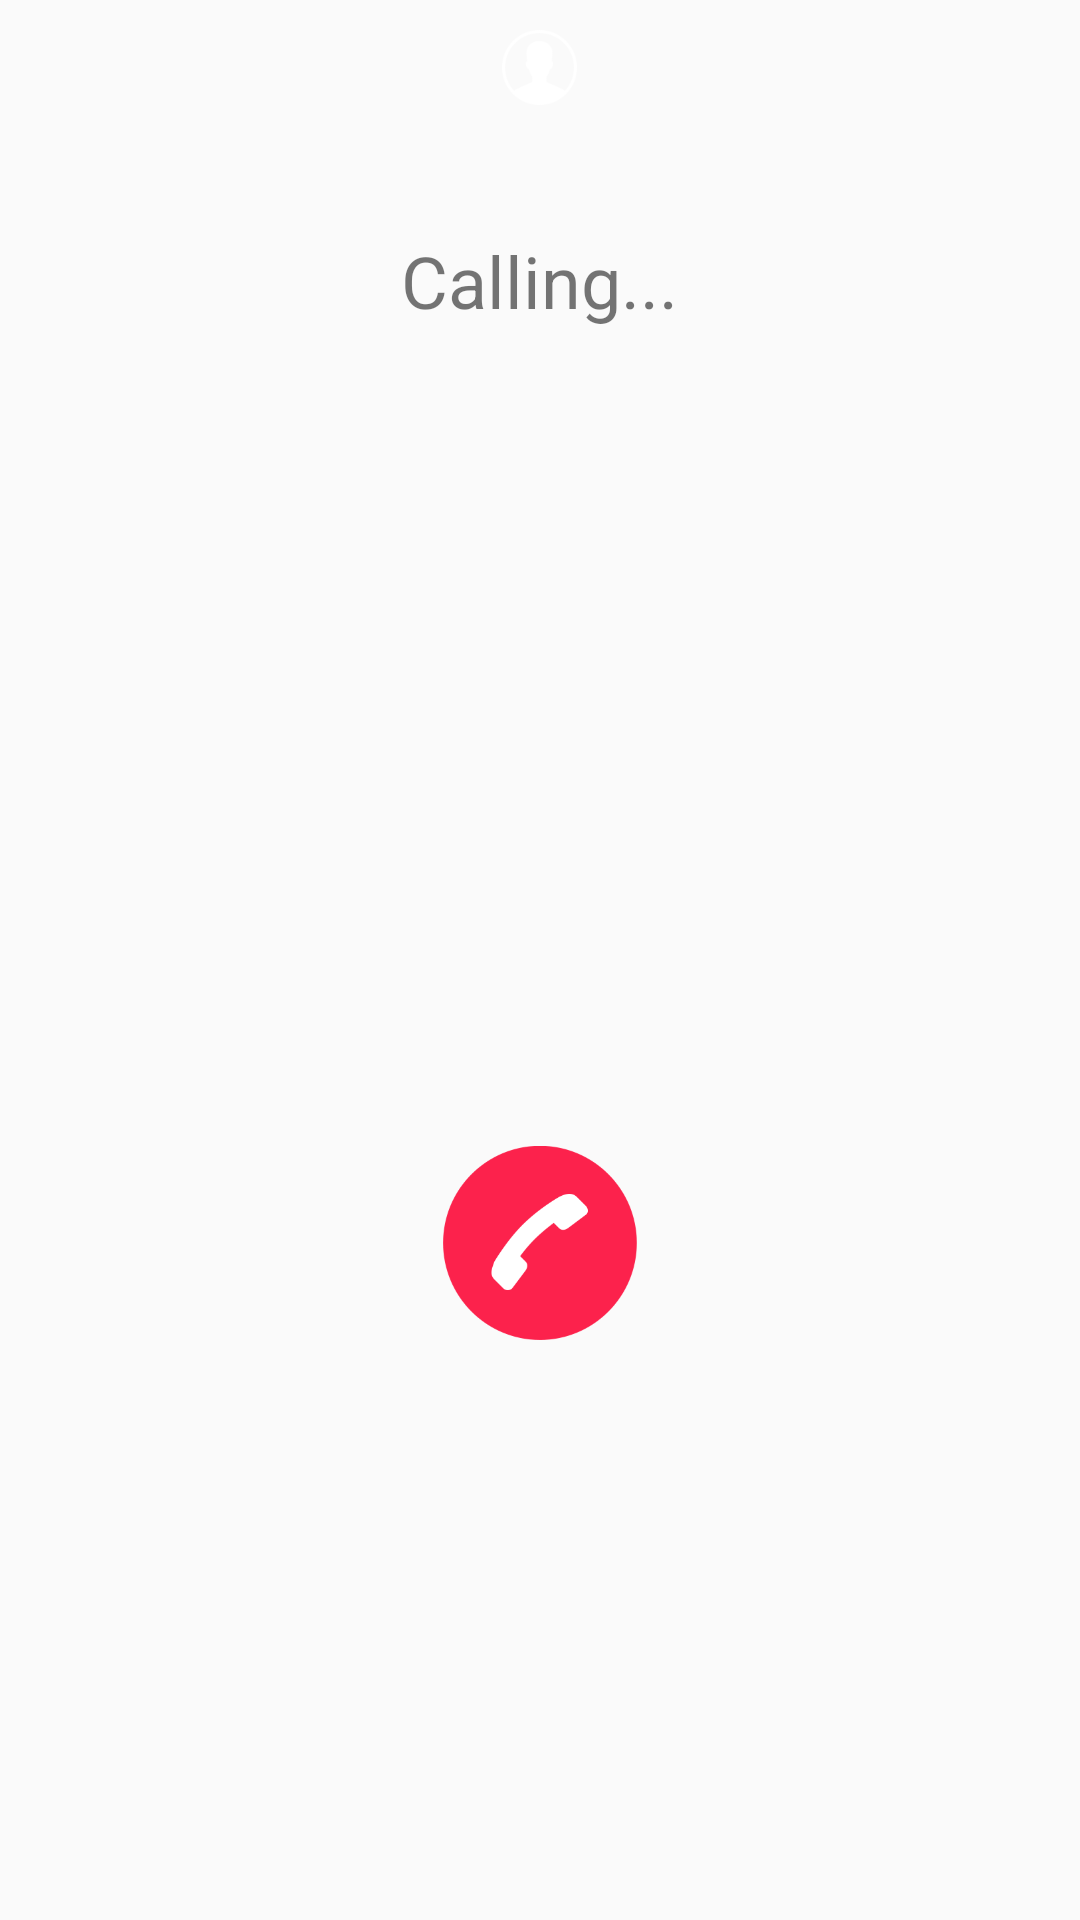

Named icons in this screenshot (1080 x 1920) and their bounding boxes, (x1, y1, x2, y2):
hungup: (443, 1146, 637, 1340)
